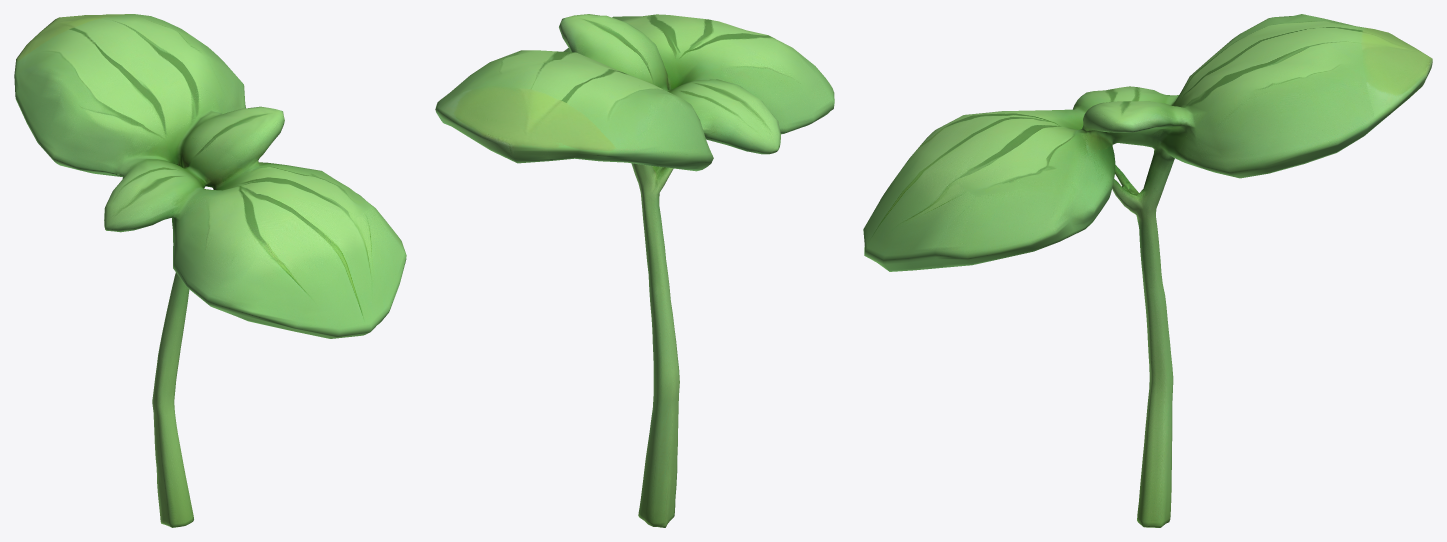
Rendered from basil_s.glb.
3 views of the same model, side by side, from view 1: azimuth 30°, elevation 25°; view 2: azimuth 150°, elevation 25°; view 3: azimuth 270°, elevation 25° (orthographic). The views are drawn at different scales.
Size of the model in its own units: 1.07 by 1.92 by 2.
1 material, 1 textured.
